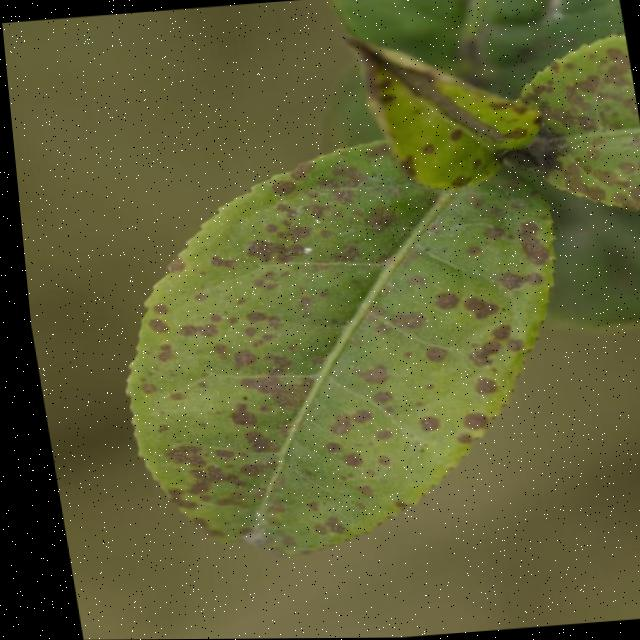Tea red scab: (113, 158, 578, 558), (334, 53, 518, 192)
